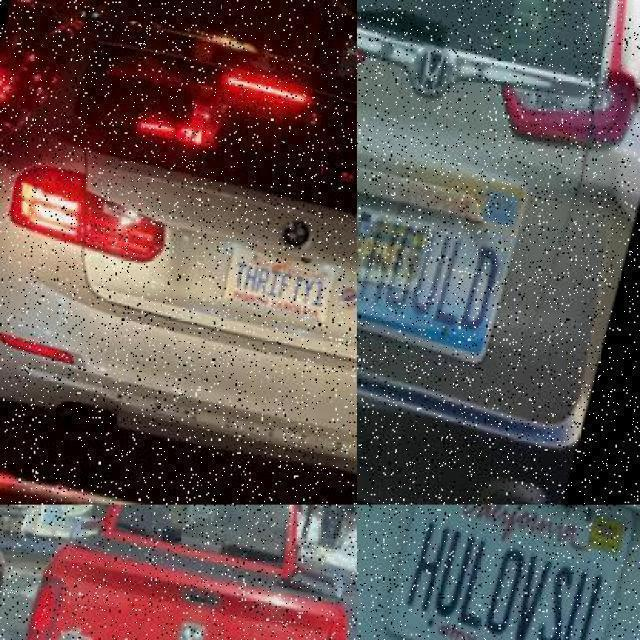license_plate: (379, 504, 635, 640), (221, 245, 336, 325), (357, 204, 428, 296)
